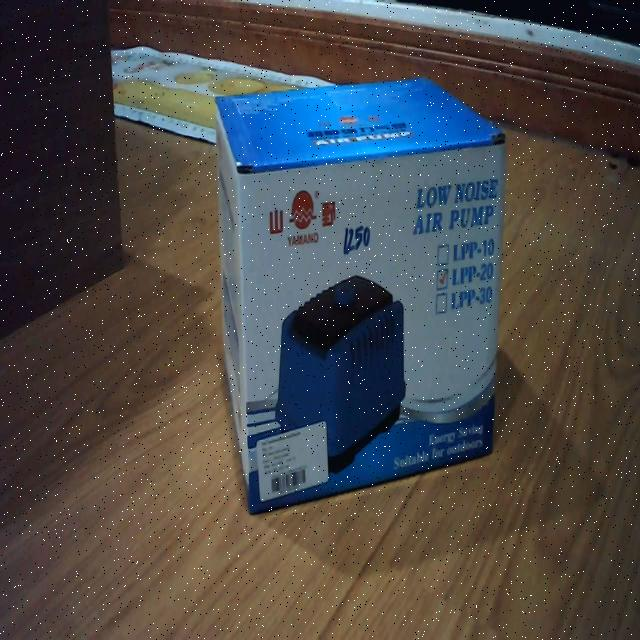YAMANO_LPP_20: (209, 54, 513, 526)
